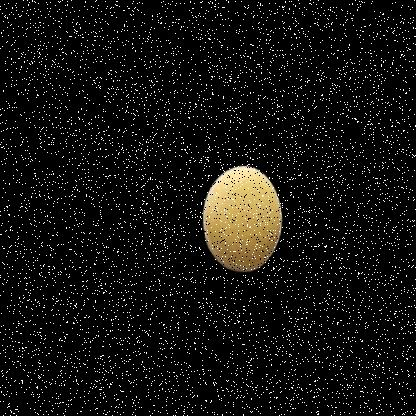rabeparzole20: (187, 132, 305, 295)
